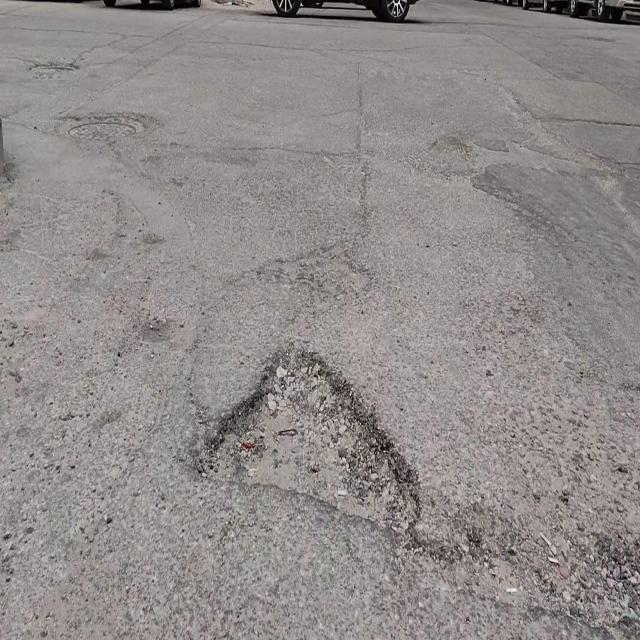Pothole: (176, 341, 428, 541)
